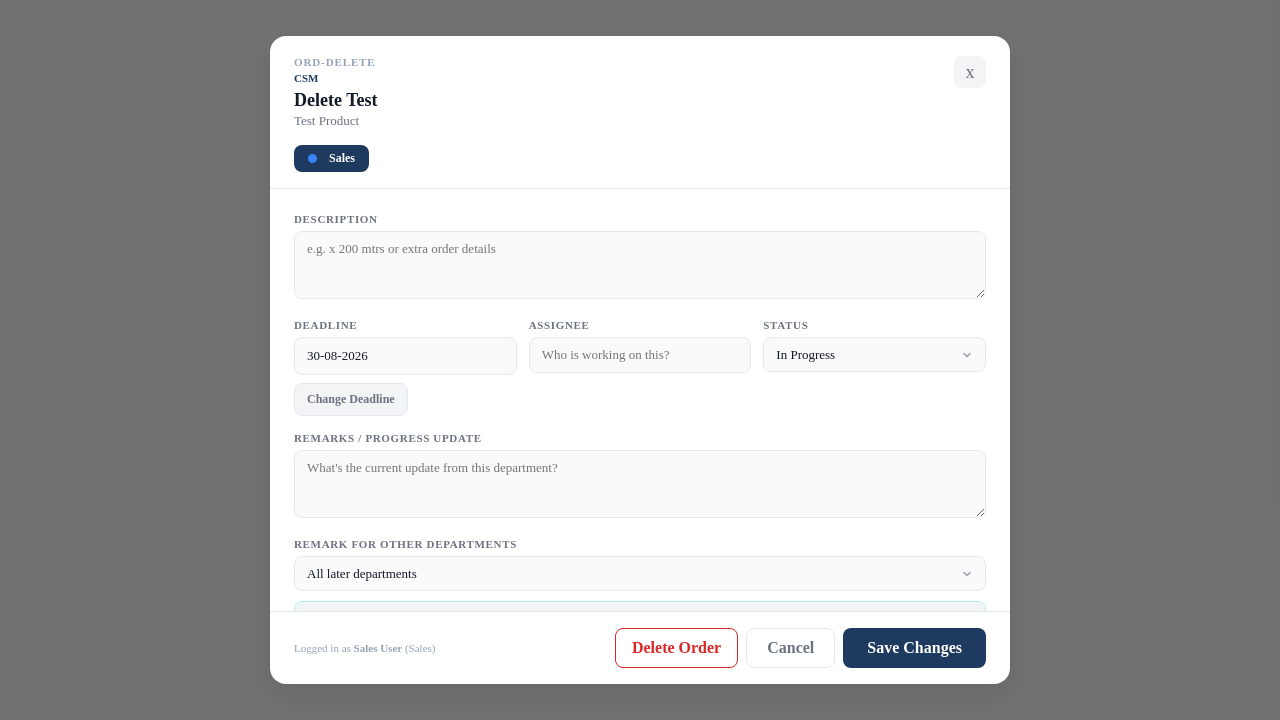
Test: OrderModal unsaved changes › warns before closing edited work through the close button
Type "Aaryan" into the field with placeholder "Who is working on this?".
click(640, 355); type("Aaryan")  # box [529,337,751,373]
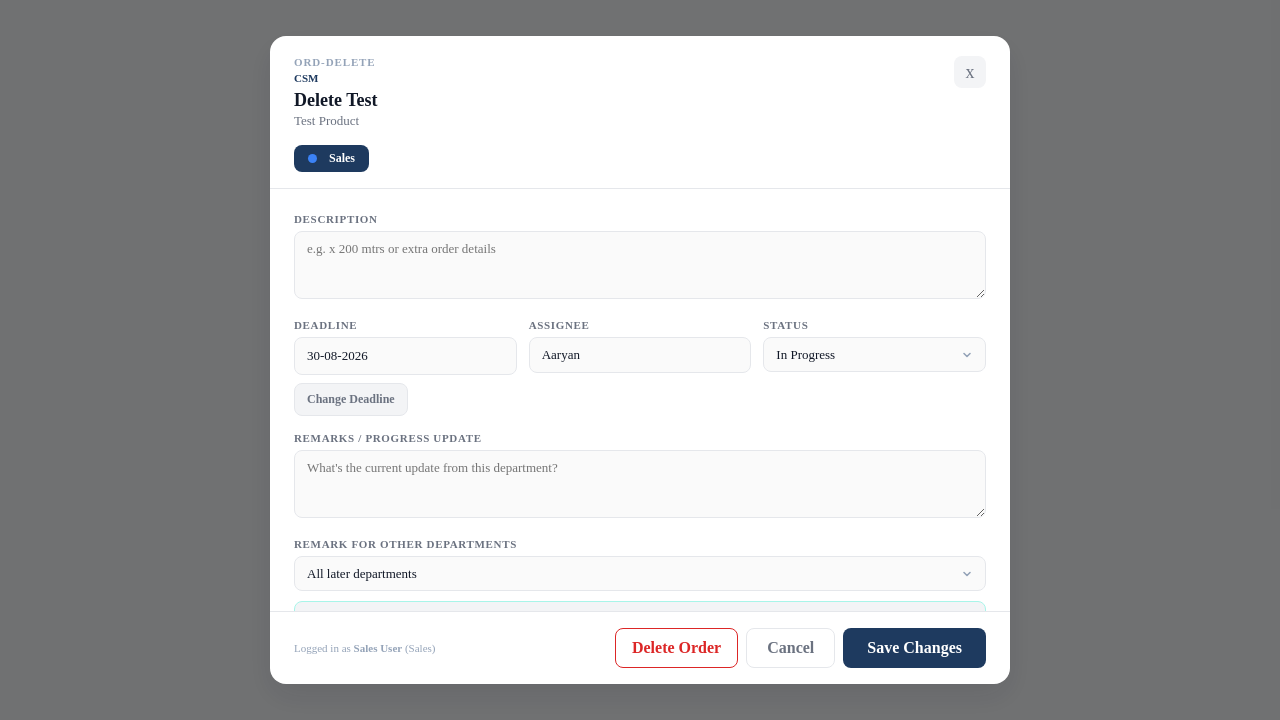
Click the button named "Close order".
click(970, 72)  # box [954,56,986,88]
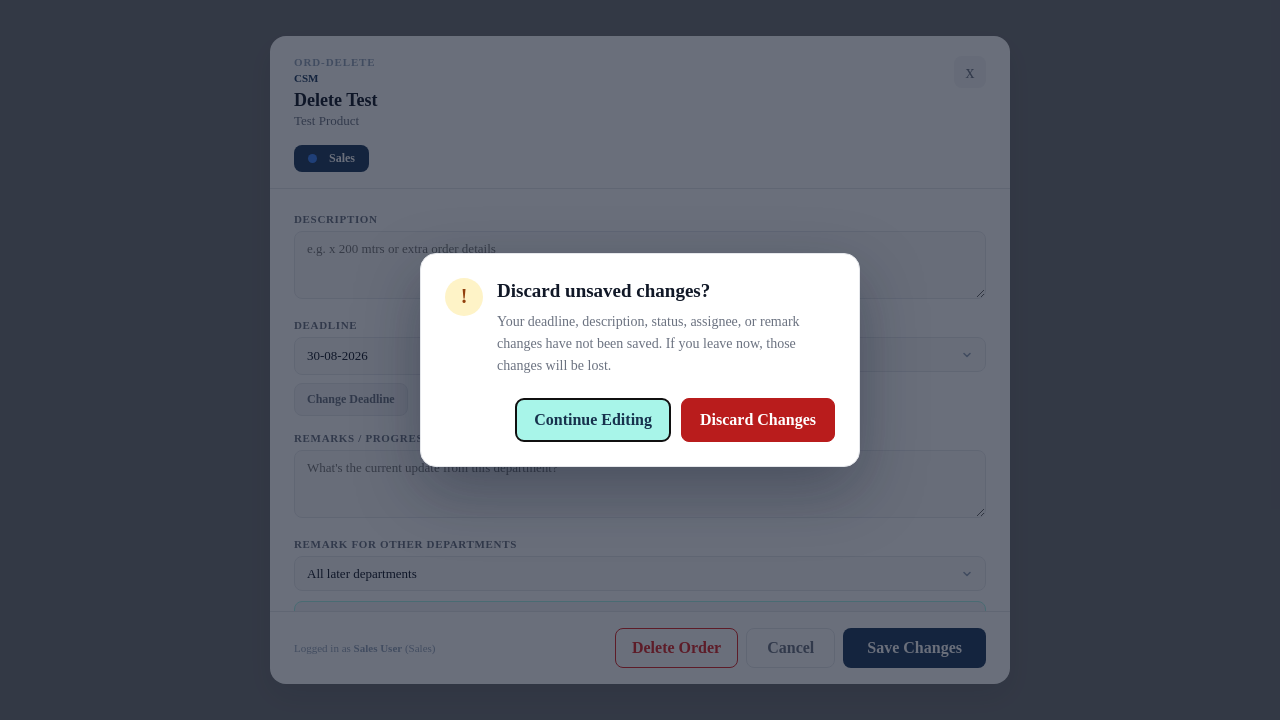
Expected: the heading "Discard unsaved changes?" is shown, [497,280,710,301]
